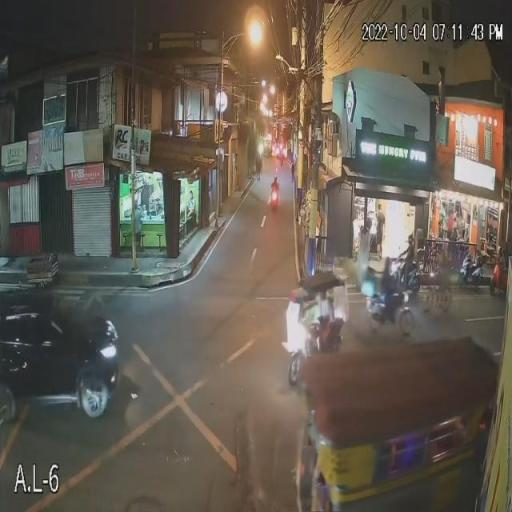helmet: (377, 255, 400, 273), (268, 176, 282, 183)
motorcycle: (361, 272, 437, 342), (265, 192, 290, 214)
rider: (377, 271, 396, 304), (268, 182, 282, 196)
